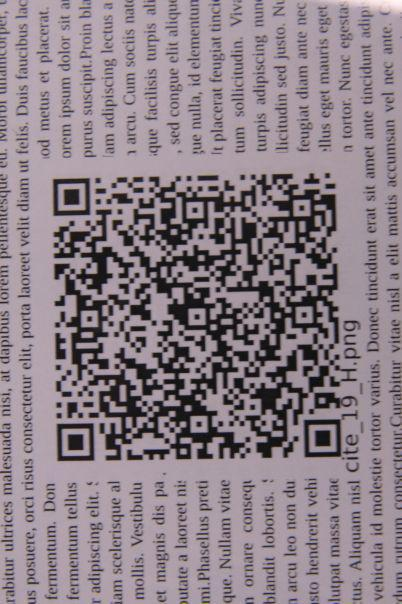Finder pattern: (52, 421, 99, 465), (302, 415, 346, 461), (49, 176, 96, 218)
